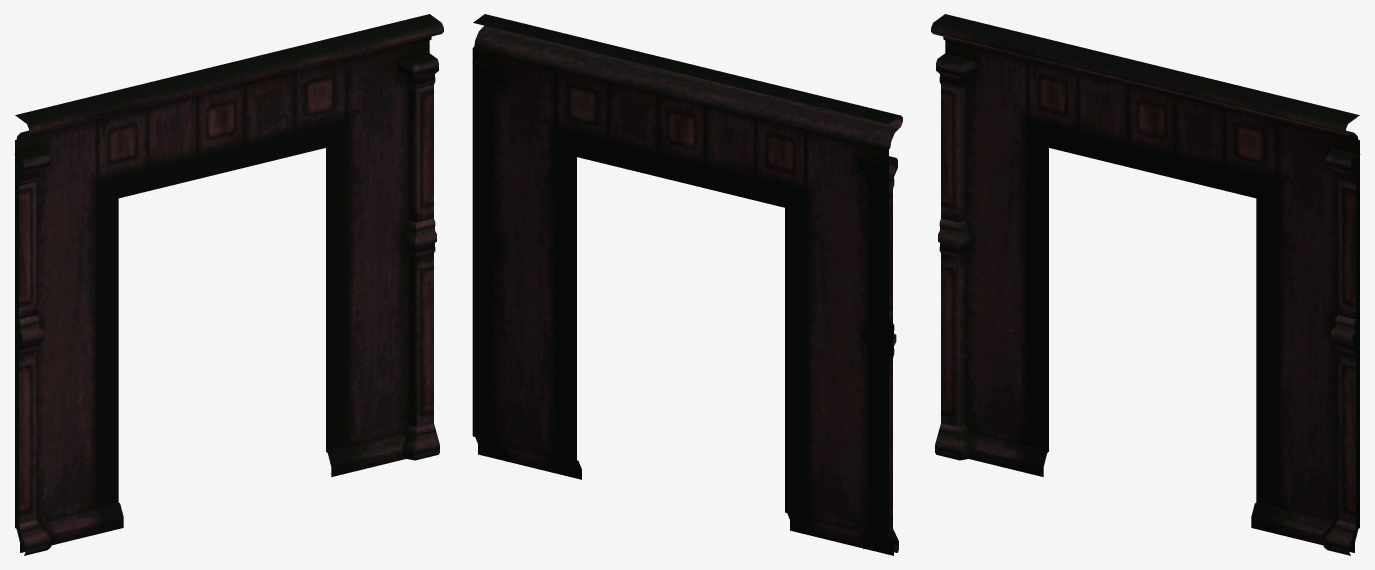
Rendered from 42_door_way02.dae.
3 renders of one model, left to right at view 1: azimuth 30°, elevation 25°; view 2: azimuth 150°, elevation 25°; view 3: azimuth 330°, elevation 25°, orthographic.
Parts seen in each view (by area): view 1: door_way02; view 2: door_way02; view 3: door_way02.
Part boxes in pixels (x1,y1,x2,y2): door_way02: (14, 14, 443, 555); door_way02: (472, 14, 902, 555); door_way02: (931, 14, 1360, 555).
Size of the model in its own units: 4 by 4 by 0.2475.
Materials: 1 (1 with a texture image).
